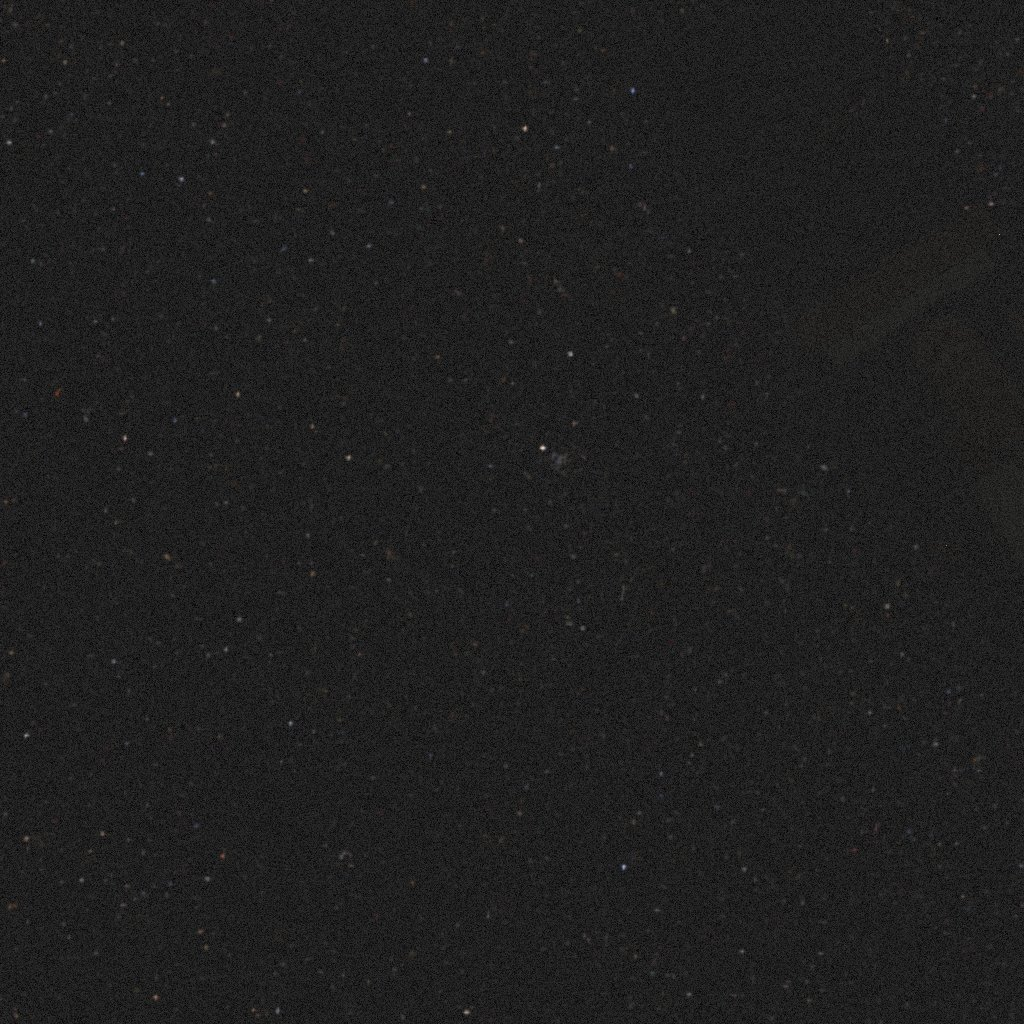soho: (639, 0, 1024, 698)
